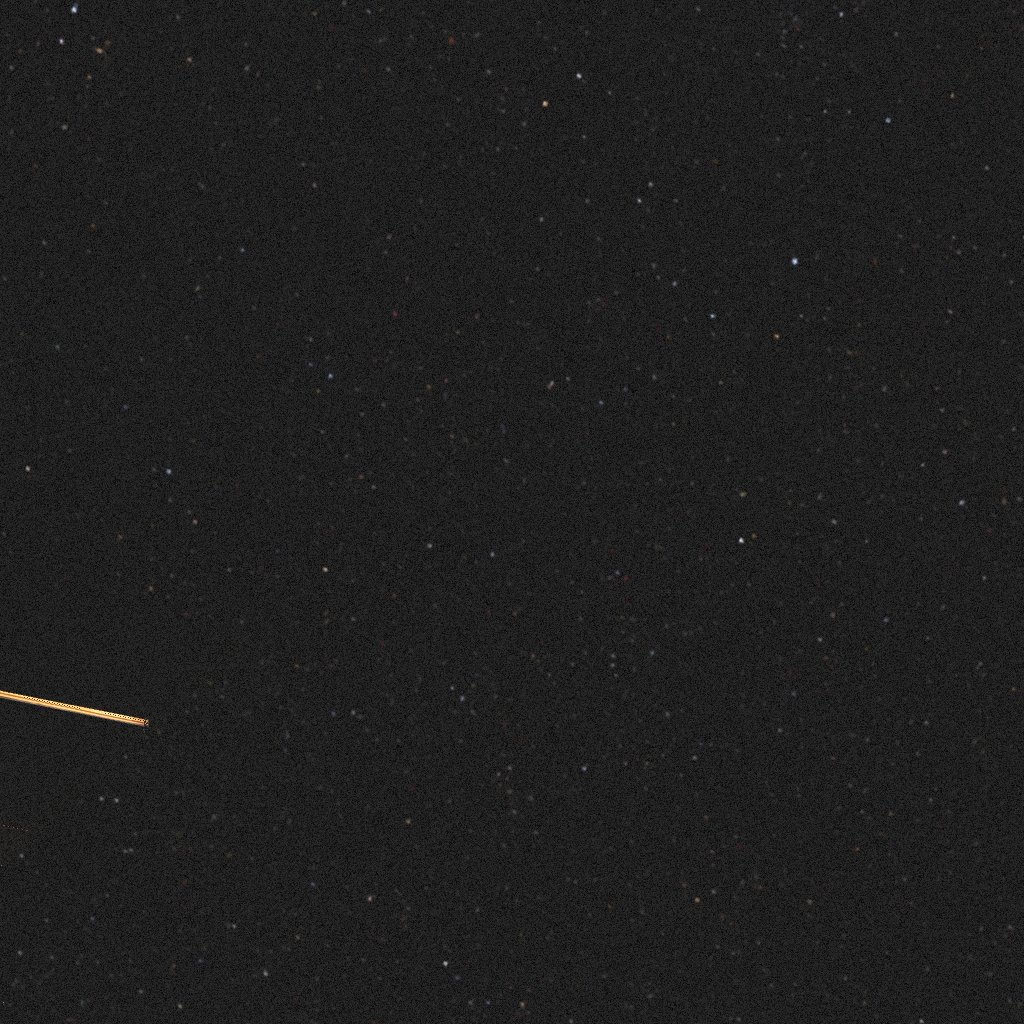soho: (0, 593, 253, 1024)
